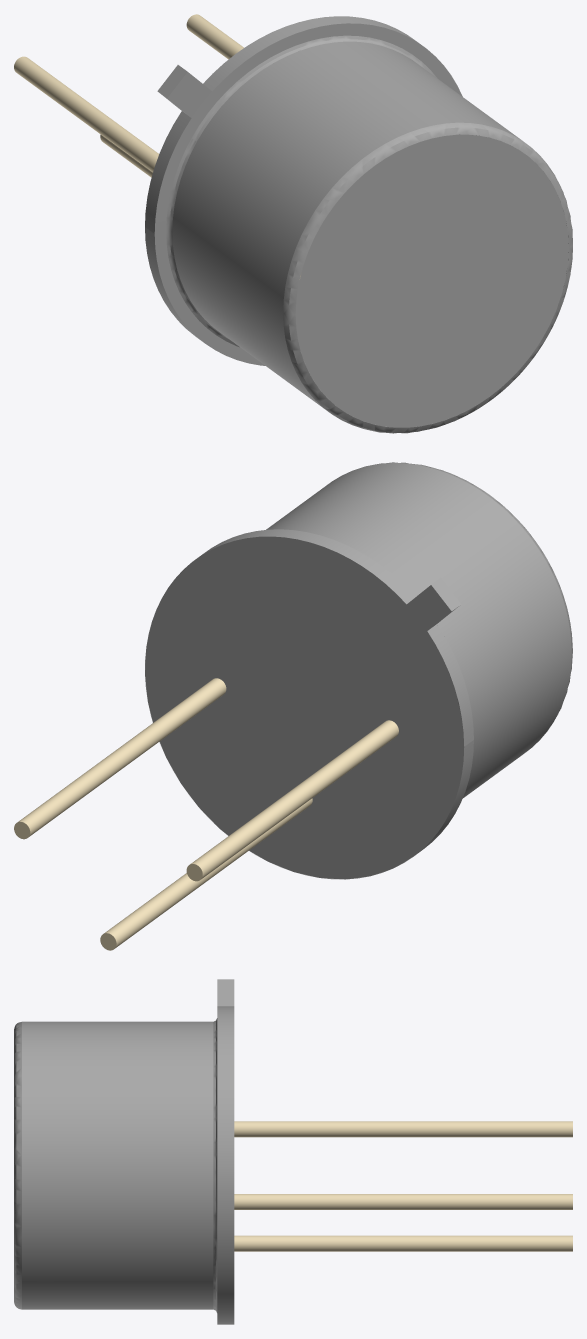
The picture shows the model from 3 angles, top to bottom: view 1: azimuth 30°, elevation 25°; view 2: azimuth 150°, elevation 25°; view 3: azimuth 270°, elevation 25°; orthographic projection. The views are drawn at different scales.
Visible parts, largest first — view 1: Shape_IndexedFaceSet, Shape_IndexedFaceSet.002, Shape_IndexedFaceSet.001, Shape_IndexedFaceSet.004, Shape_IndexedFaceSet.014, Shape_IndexedFaceSet.003, Shape_IndexedFaceSet.007, Shape_IndexedFaceSet.005, Shape_IndexedFaceSet.015, Shape_IndexedFaceSet.006; view 2: Shape_IndexedFaceSet.008, Shape_IndexedFaceSet.002, Shape_IndexedFaceSet.012, Shape_IndexedFaceSet.014, Shape_IndexedFaceSet.015, Shape_IndexedFaceSet.007, Shape_IndexedFaceSet.013, Shape_IndexedFaceSet.005, Shape_IndexedFaceSet.016, Shape_IndexedFaceSet.001; view 3: Shape_IndexedFaceSet.002, Shape_IndexedFaceSet.013, Shape_IndexedFaceSet.014, Shape_IndexedFaceSet.007, Shape_IndexedFaceSet.015, Shape_IndexedFaceSet.001, Shape_IndexedFaceSet.003, Shape_IndexedFaceSet.010.
Boxes of the visible parts, <box> form: Shape_IndexedFaceSet: <box>295,134,568,427</box>; Shape_IndexedFaceSet.002: <box>172,41,568,427</box>; Shape_IndexedFaceSet.001: <box>283,122,572,433</box>; Shape_IndexedFaceSet.004: <box>154,23,462,365</box>; Shape_IndexedFaceSet.014: <box>14,56,158,172</box>; Shape_IndexedFaceSet.003: <box>166,35,436,347</box>; Shape_IndexedFaceSet.007: <box>145,16,420,341</box>; Shape_IndexedFaceSet.005: <box>145,111,191,233</box>; Shape_IndexedFaceSet.015: <box>186,14,243,59</box>; Shape_IndexedFaceSet.006: <box>167,72,211,117</box>; Shape_IndexedFaceSet.008: <box>145,536,463,879</box>; Shape_IndexedFaceSet.002: <box>266,463,571,798</box>; Shape_IndexedFaceSet.012: <box>294,604,426,720</box>; Shape_IndexedFaceSet.014: <box>190,720,398,879</box>; Shape_IndexedFaceSet.015: <box>18,678,226,837</box>; Shape_IndexedFaceSet.007: <box>145,529,473,879</box>; Shape_IndexedFaceSet.013: <box>104,798,312,948</box>; Shape_IndexedFaceSet.005: <box>427,624,473,746</box>; Shape_IndexedFaceSet.016: <box>407,585,451,630</box>; Shape_IndexedFaceSet.001: <box>364,462,572,718</box>; Shape_IndexedFaceSet.002: <box>22,1021,213,1309</box>; Shape_IndexedFaceSet.013: <box>234,1235,572,1251</box>; Shape_IndexedFaceSet.014: <box>234,1121,572,1137</box>; Shape_IndexedFaceSet.007: <box>217,1006,234,1324</box>; Shape_IndexedFaceSet.015: <box>234,1194,572,1209</box>; Shape_IndexedFaceSet.001: <box>14,1022,21,1309</box>; Shape_IndexedFaceSet.003: <box>213,1018,217,1312</box>; Shape_IndexedFaceSet.010: <box>217,979,234,1006</box>.
Bounding box in the file's own units: 3.7 × 3.7 × 6.5.
